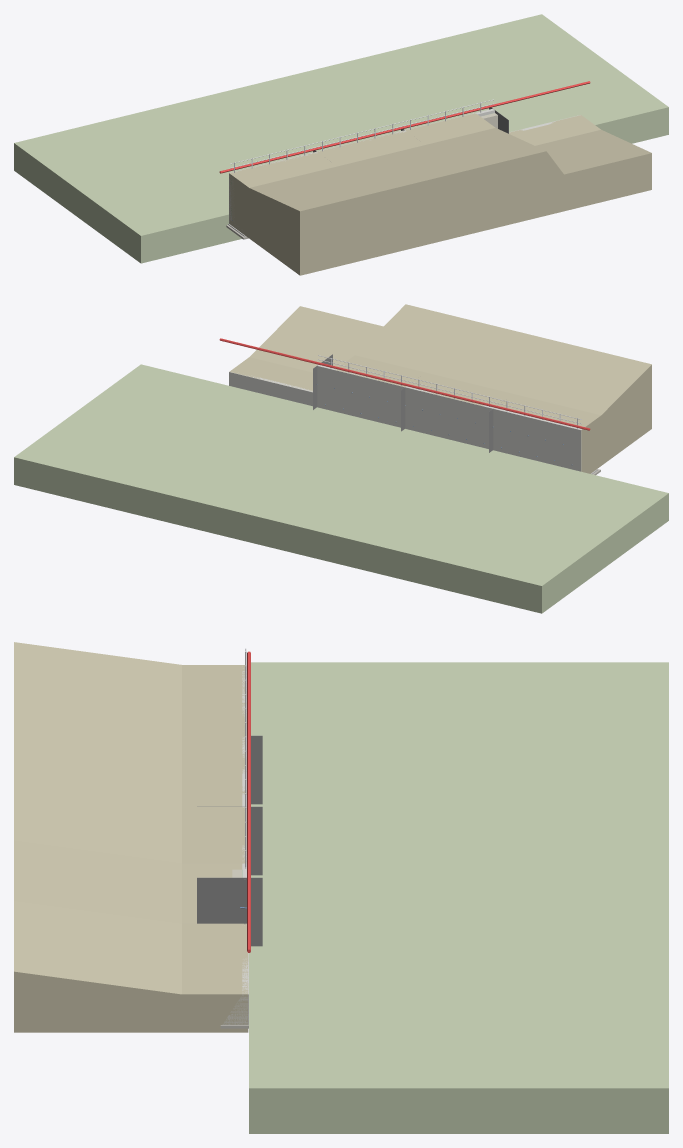
The picture shows the model from 3 angles, top to bottom: view 1: azimuth 30°, elevation 25°; view 2: azimuth 150°, elevation 25°; view 3: azimuth 270°, elevation 25°; orthographic projection. The views are drawn at different scales.
Parts seen in each view (by area): view 1: 地形|前面地盤 (参考), 土工|背面盛土 (参考), 線形|擁壁法線 (前面線), 附属物|天端 防護柵 (支柱15本); view 2: 地形|前面地盤 (参考), 土工|背面盛土 (参考), 本体|逆T式 たて壁 (H=5.0m, t=0.4〜0.5m, ブロック1), 本体|逆T式 たて壁 (H=5.0m, t=0.4〜0.5m, ブロック2), 本体|逆T式 たて壁 (H=5.0m, t=0.4〜0.5m, ブロック3), 本体|重力式擁壁 (H=2.0m, 天端0.4m, 背面1:0.6) L=10m, 線形|擁壁法線 (前面線), 附属物|天端 防護柵 (支柱15本); view 3: 地形|前面地盤 (参考), 土工|背面盛土 (参考), 目地|目地材 t=20mm・止水板 (No.30), 線形|擁壁法線 (前面線), 目地|目地材 t=20mm・止水板 (No.20), 目地|目地材 t=20mm・止水板 (No.10).
Boxes of the visible parts, x1=… form: 地形|前面地盤 (参考): x1=14, y1=14, x2=668, y2=263; 土工|背面盛土 (参考): x1=229, y1=113, x2=651, y2=275; 線形|擁壁法線 (前面線): x1=219, y1=81, x2=590, y2=173; 附属物|天端 防護柵 (支柱15本): x1=230, y1=99, x2=493, y2=172; 地形|前面地盤 (参考): x1=14, y1=364, x2=668, y2=613; 土工|背面盛土 (参考): x1=229, y1=304, x2=651, y2=473; 本体|逆T式 たて壁 (H=5.0m, t=0.4〜0.5m, ブロック1): x1=493, y1=408, x2=581, y2=471; 本体|逆T式 たて壁 (H=5.0m, t=0.4〜0.5m, ブロック2): x1=405, y1=386, x2=493, y2=448; 本体|逆T式 たて壁 (H=5.0m, t=0.4〜0.5m, ブロック3): x1=317, y1=365, x2=404, y2=427; 本体|重力式擁壁 (H=2.0m, 天端0.4m, 背面1:0.6) L=10m: x1=229, y1=372, x2=312, y2=406; 線形|擁壁法線 (前面線): x1=219, y1=338, x2=590, y2=430; 附属物|天端 防護柵 (支柱15本): x1=318, y1=355, x2=581, y2=428; 地形|前面地盤 (参考): x1=249, y1=662, x2=668, y2=1133; 土工|背面盛土 (参考): x1=14, y1=642, x2=248, y2=1032; 目地|目地材 t=20mm・止水板 (No.30): x1=197, y1=877, x2=262, y2=946; 線形|擁壁法線 (前面線): x1=247, y1=651, x2=250, y2=952; 目地|目地材 t=20mm・止水板 (No.20): x1=197, y1=806, x2=262, y2=875; 目地|目地材 t=20mm・止水板 (No.10): x1=251, y1=735, x2=262, y2=804.
Bounding box in the file's own units: 60 × 9 × 39.
